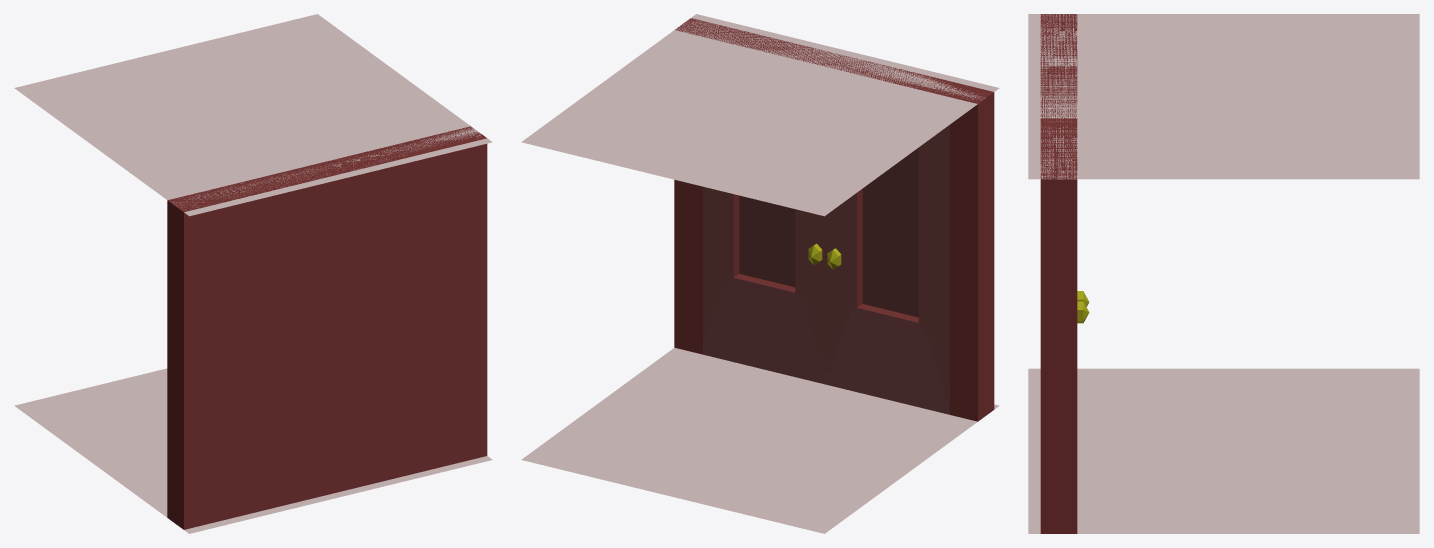
The model's file is WholeOfficeDoor.gltf.
3 renders of one model, left to right at view 1: azimuth 30°, elevation 25°; view 2: azimuth 150°, elevation 25°; view 3: azimuth 270°, elevation 25°, orthographic. The views are drawn at different scales.
Parts seen in each view (by area): view 1: officedoor; view 2: officedoor; view 3: officedoor.
Boxes of the visible parts, box(x1,y1,x2,y2) form: officedoor: box(14, 14, 492, 533); officedoor: box(521, 14, 999, 533); officedoor: box(1028, 14, 1419, 533).
Size of the model in its own units: 2 by 2 by 2.
Materials: 3 (3 with a texture image).
